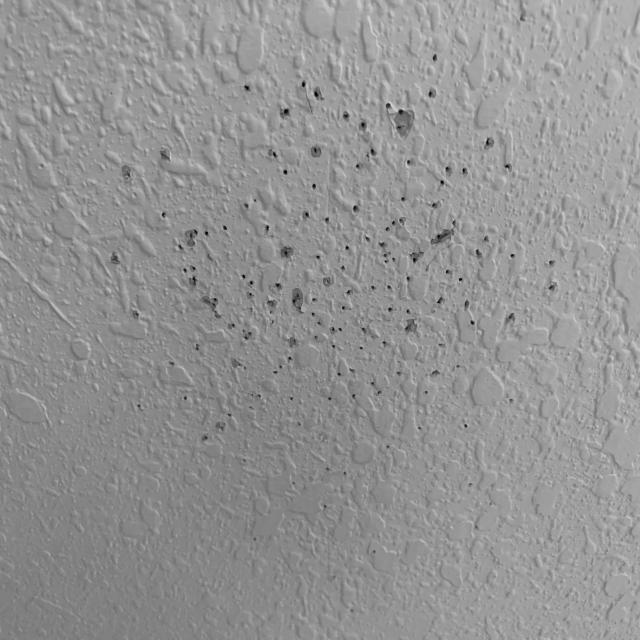pin holes: (103, 9, 576, 640)
